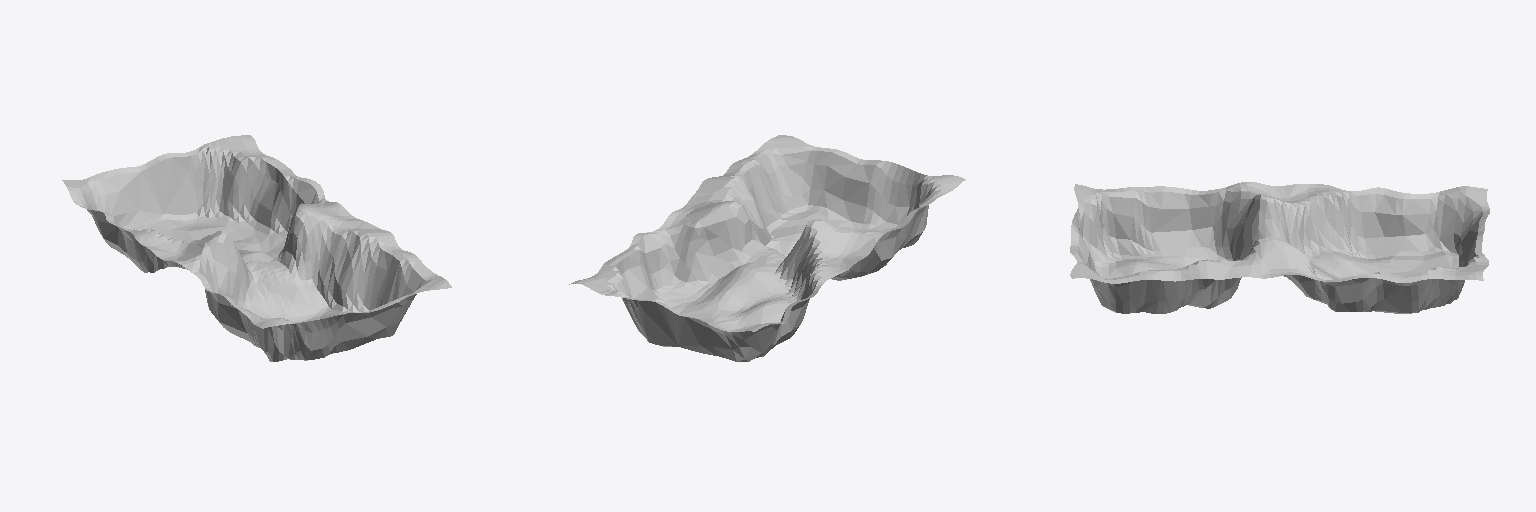
File: mpmap2.obj
3 views of the same model, side by side, from view 1: azimuth 30°, elevation 25°; view 2: azimuth 150°, elevation 25°; view 3: azimuth 270°, elevation 25° (orthographic).
Parts seen in each view (by area): view 1: Plane01; view 2: Plane01; view 3: Plane01.
Boxes of the visible parts, box(x1,y1,x2,y2) form: Plane01: box(62, 135, 451, 361); Plane01: box(569, 135, 965, 361); Plane01: box(1070, 182, 1489, 313).
Size of the model in its own units: 307 by 117 by 564.